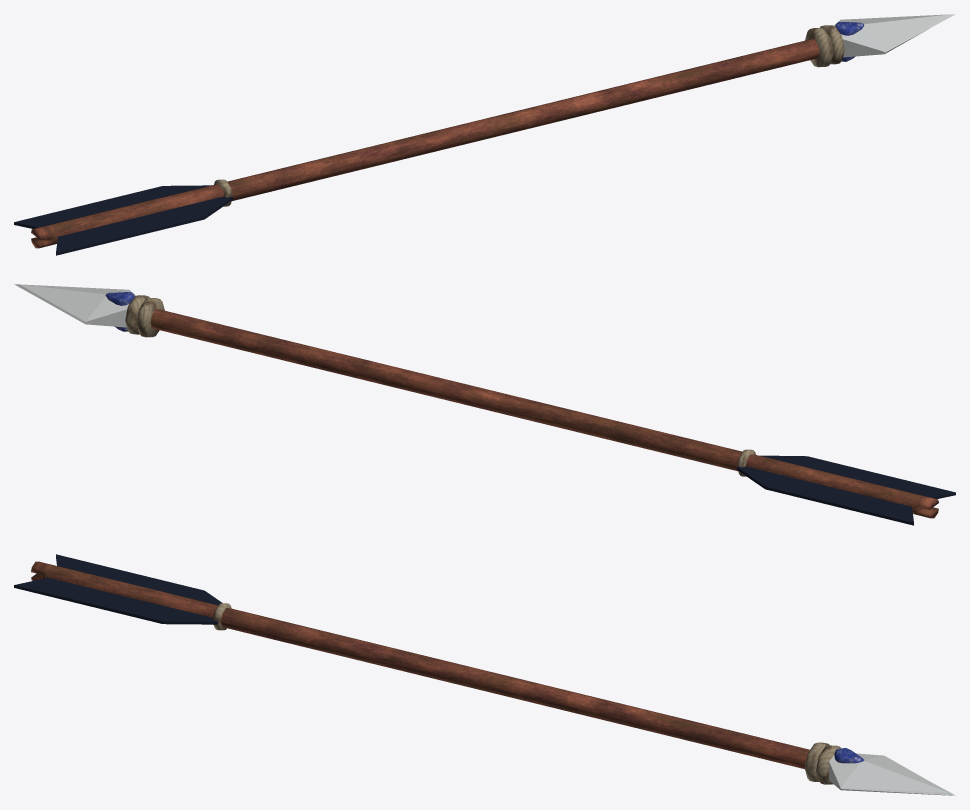
The model's file is arrow.glb.
The picture shows the model from 3 angles, top to bottom: view 1: azimuth 30°, elevation 25°; view 2: azimuth 150°, elevation 25°; view 3: azimuth 330°, elevation 25°; orthographic projection.
Parts seen in each view (by area): view 1: ARROW; view 2: ARROW; view 3: ARROW.
Boxes of the visible parts, x1=… form: ARROW: x1=14, y1=14, x2=954, y2=255; ARROW: x1=14, y1=284, x2=955, y2=525; ARROW: x1=14, y1=554, x2=955, y2=795.
Bounding box in the file's own units: 0.9488 × 0.0378 × 0.0784.
1 material, 1 textured.
